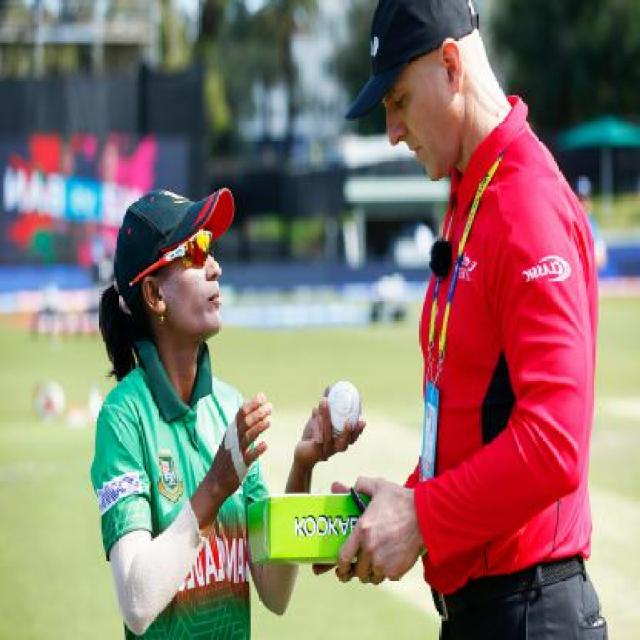ball: (307, 362, 389, 452)
